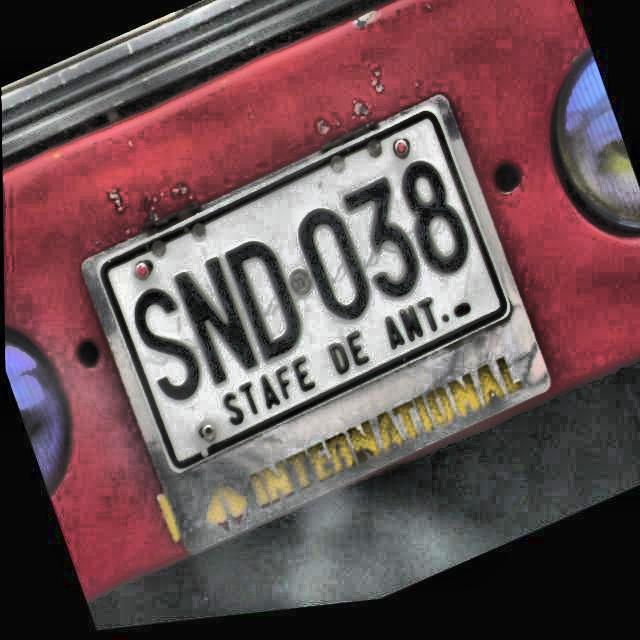plate: (103, 114, 506, 468)
